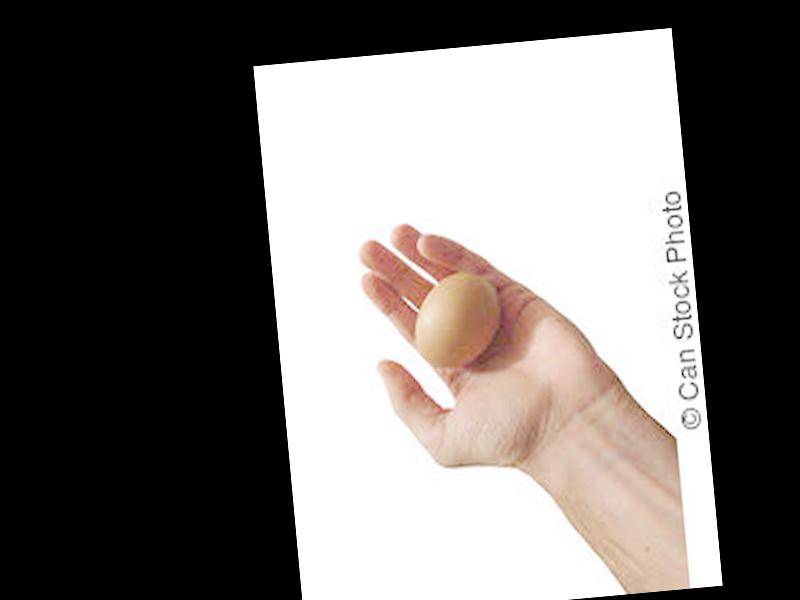Eggs: (413, 268, 503, 366)
